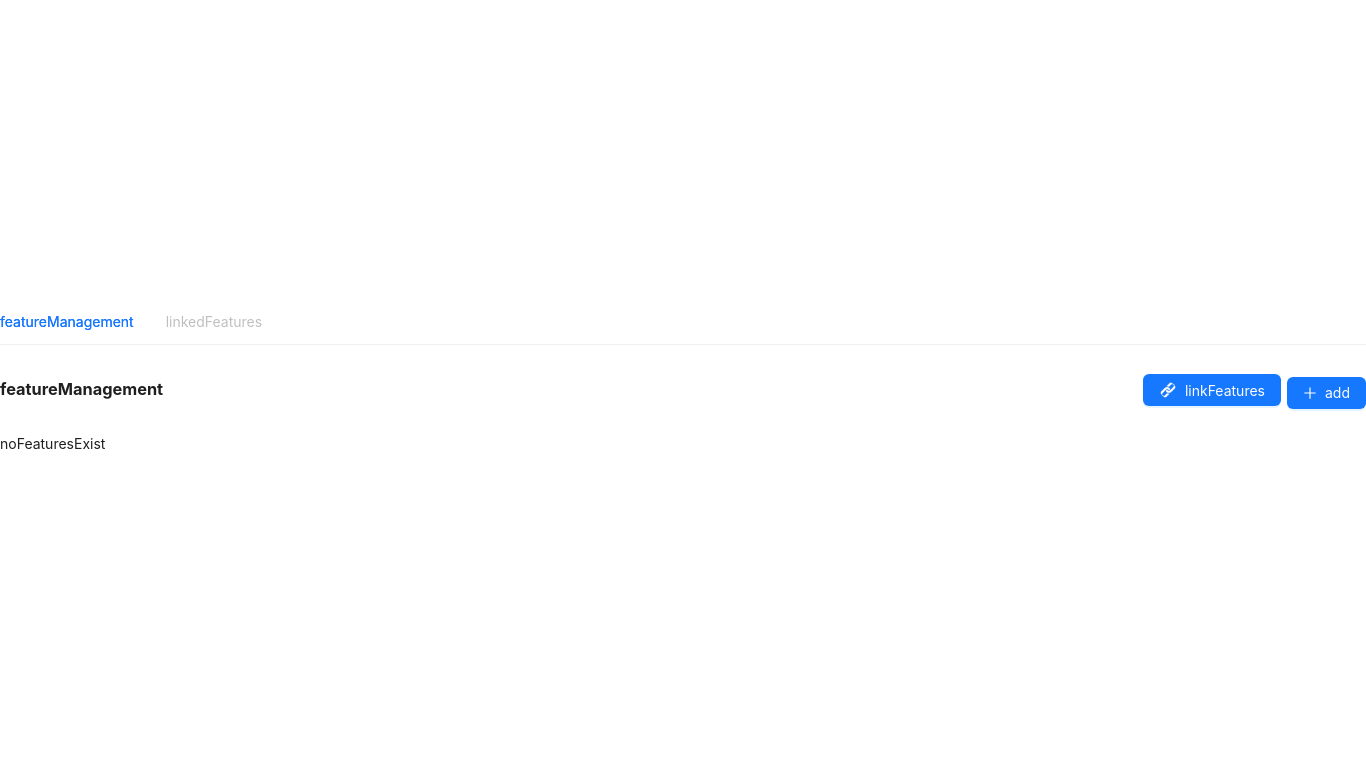
Scenario: FeatureManagement Component › should open and close the add feature modal
Click the button "add" at (1326, 392), box [1287,376,1365,408]
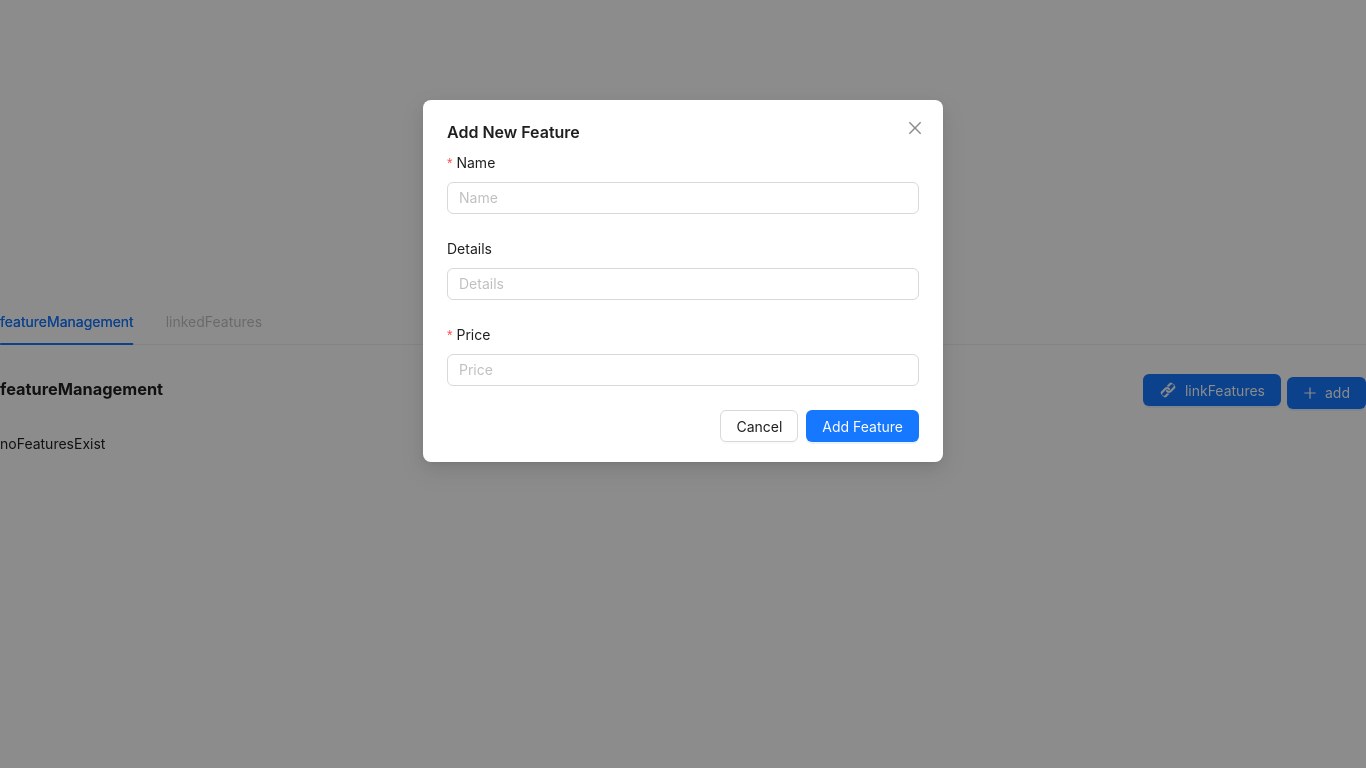
Expected: the text "Add New Feature" is shown, [447,122,580,142]
Click the button "Cancel" at (759, 426), box [720,410,798,442]
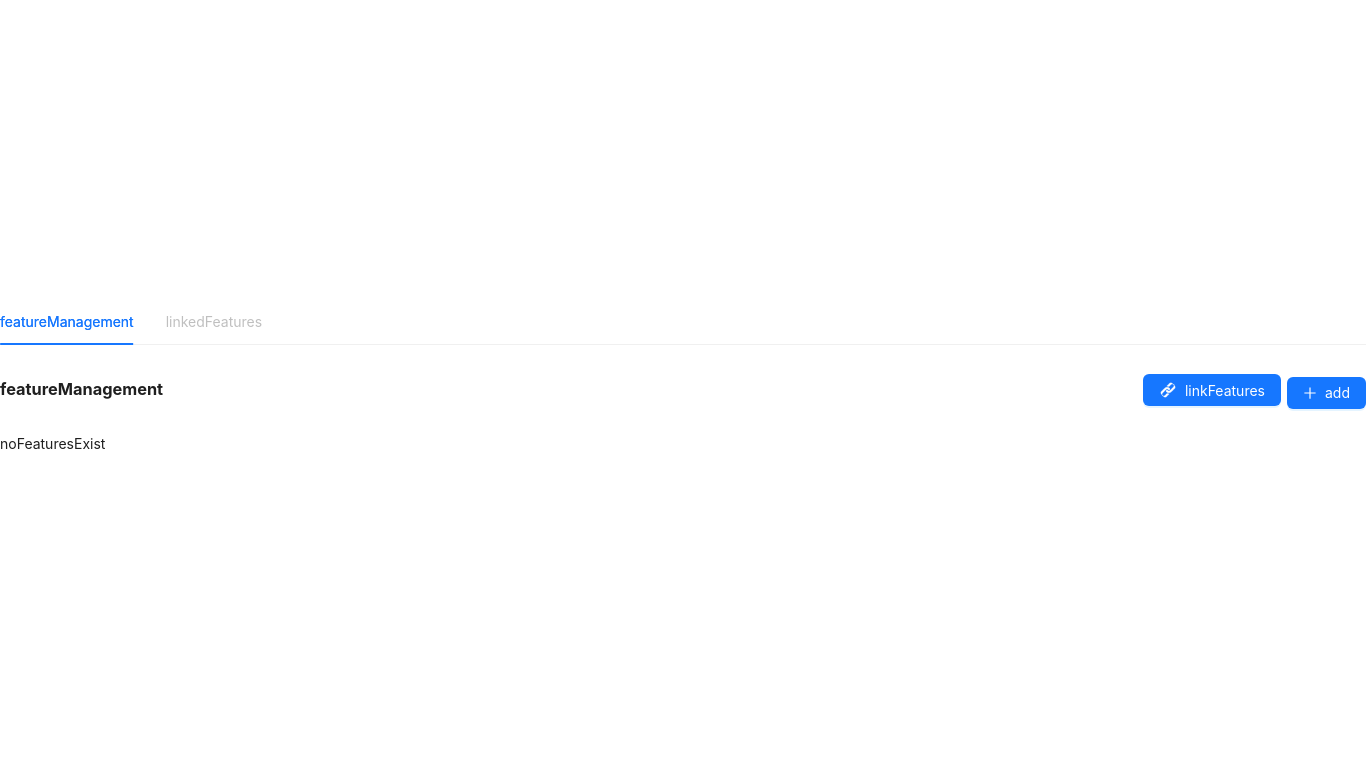
Expected: the text "Add New Feature" is gone
